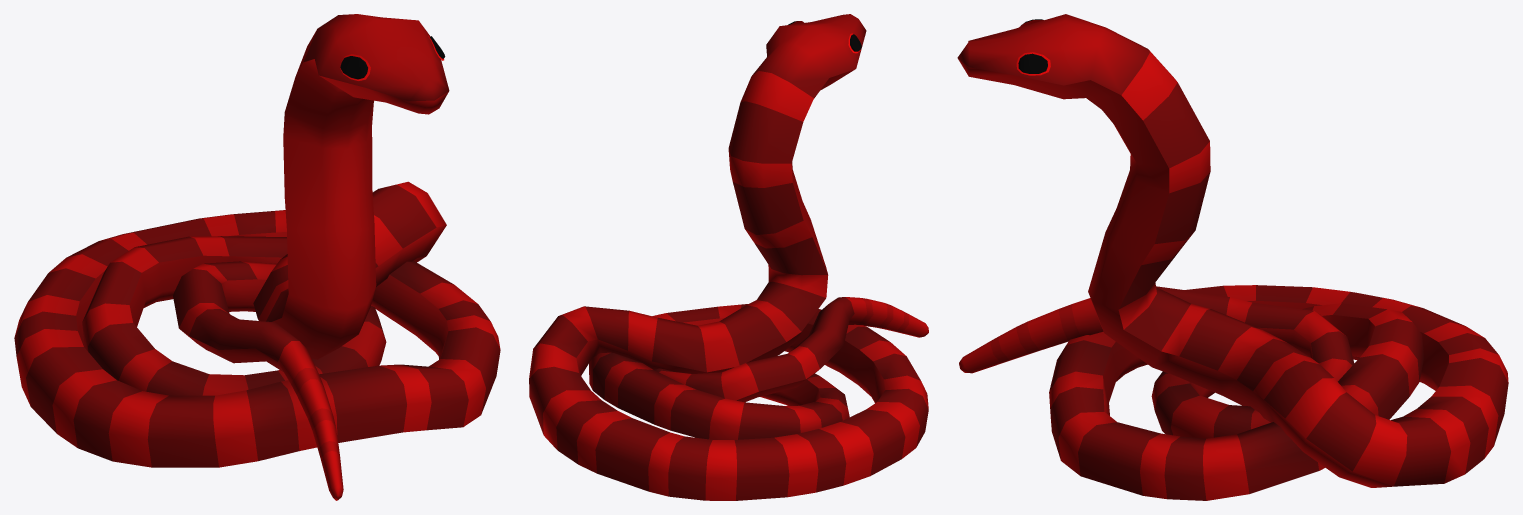
Rendered from Reptiles_Rattlesnake.fbx.
3 views of the same model, side by side, from view 1: azimuth 30°, elevation 25°; view 2: azimuth 150°, elevation 25°; view 3: azimuth 270°, elevation 25° (orthographic). The views are drawn at different scales.
Parts seen in each view (by area): view 1: base; view 2: base; view 3: base.
Boxes of the visible parts, box(x1,y1,x2,y2) form: base: box(14, 14, 500, 500); base: box(529, 14, 928, 500); base: box(957, 14, 1508, 500).
Bounding box in the file's own units: 59.03 × 57.79 × 69.52.
